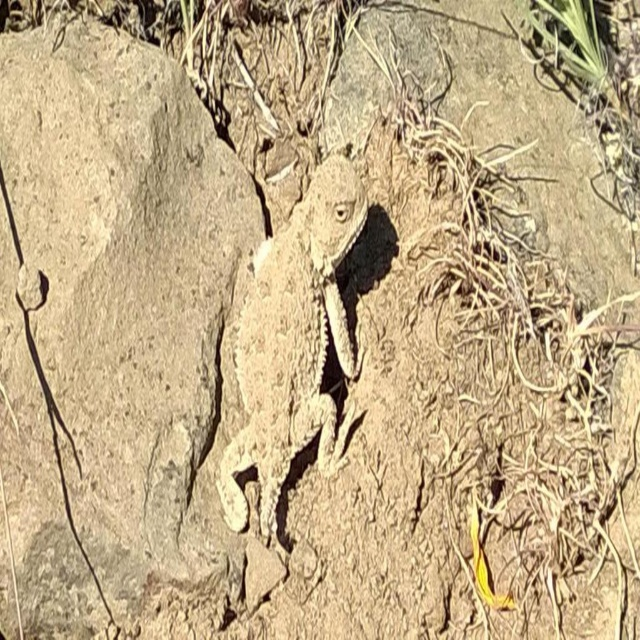Lizard: (208, 155, 385, 565)
